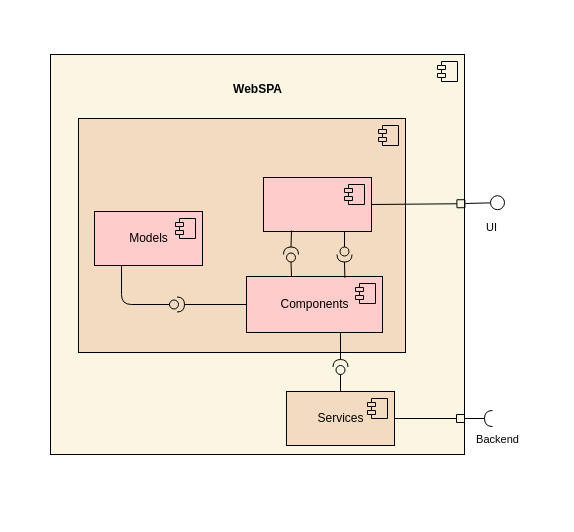
The diagram is 574 pixels wide and 532 high, and some of its shapes have lost their labels. Here are the shapes that lost their labels. From the top down, the box of each, then its label:
(262, 176, 372, 232): HTML
(78, 118, 406, 352): Pages
